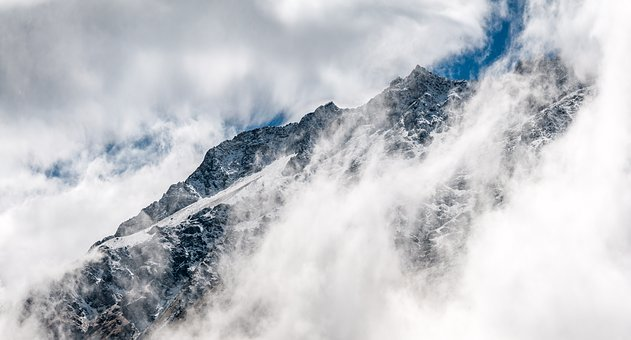mountain: (127, 68, 631, 334)
sky: (1, 4, 624, 132)
